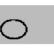no answer: (0, 16, 31, 42)
